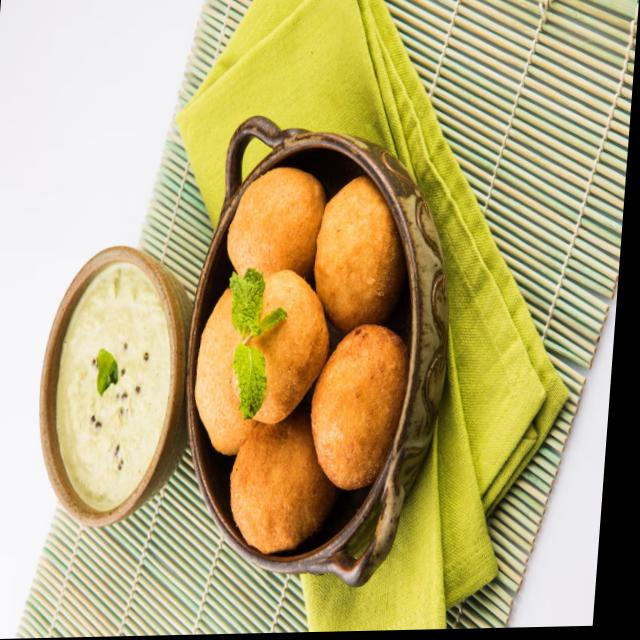BONDA: (195, 154, 404, 555)
WHITE CHUTNEY: (54, 268, 170, 504)
